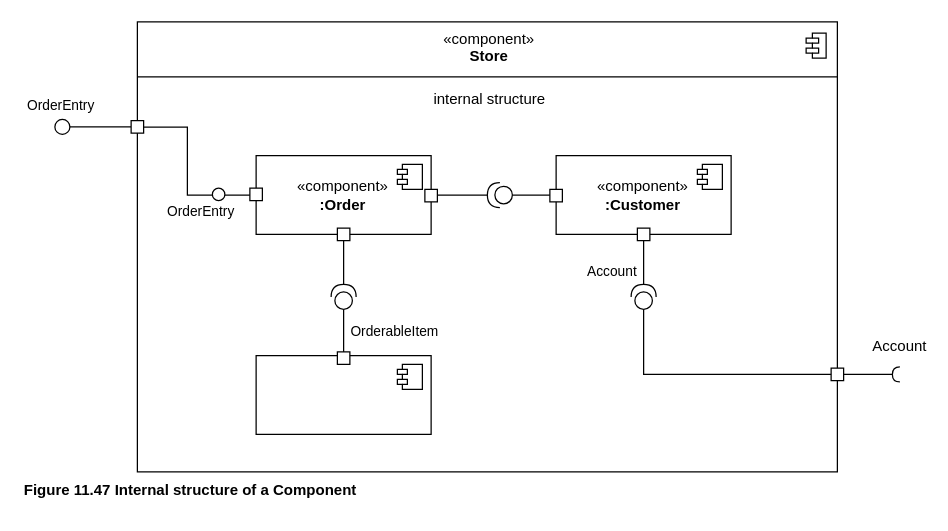
Some shapes in this 948 by 531 pixel diagram are drawn without their labels. Here are the shapes that lost their labels. From the top down, the centre of each, then its label:
[499,194]: Person
[343,394]: «component» :Product
